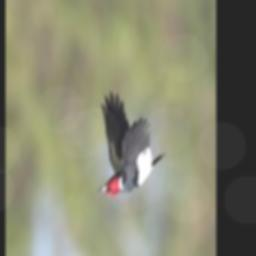Woodpecker: (98, 92, 166, 196)
